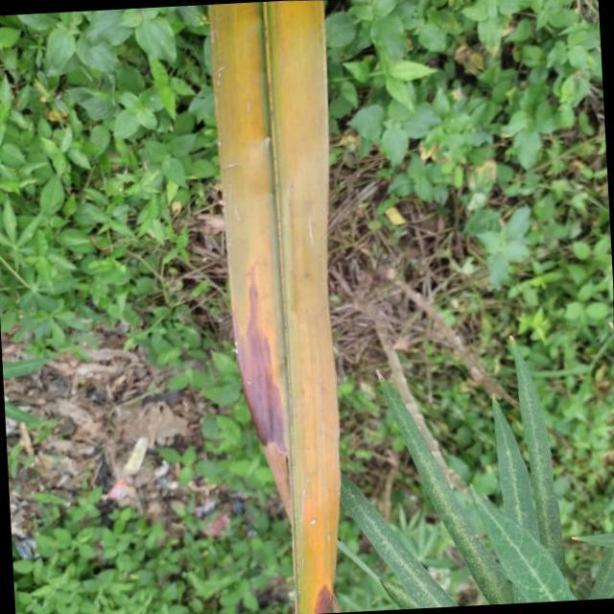Megnesium: (204, 0, 343, 614)
